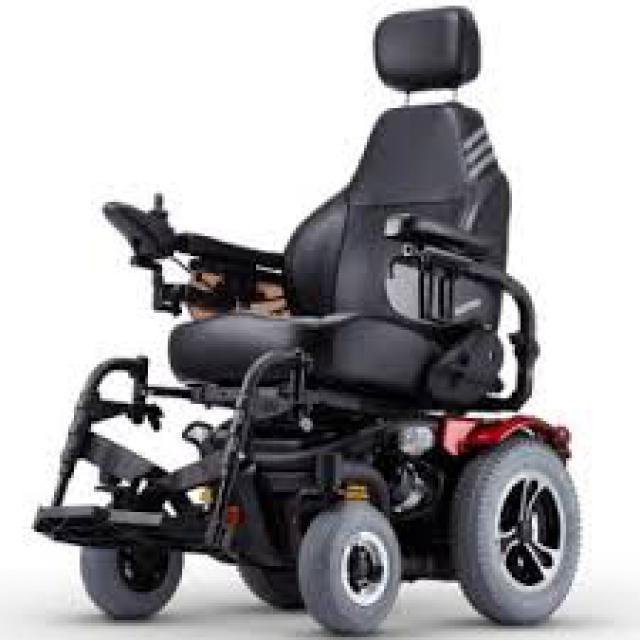wheelchair: (0, 2, 606, 638)
